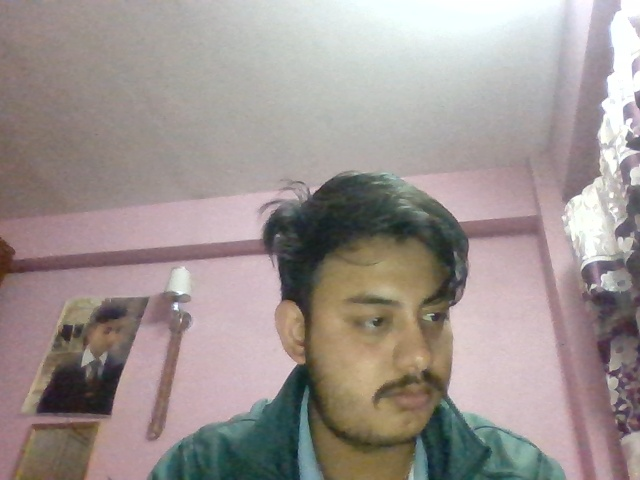no mask: (292, 341, 489, 460)
